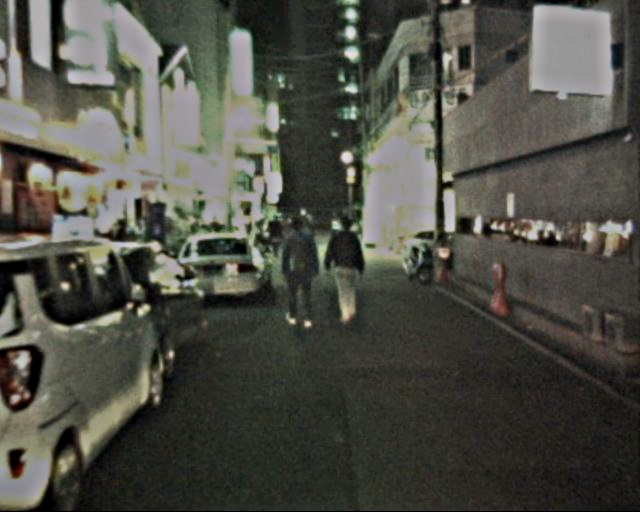person: (325, 218, 369, 324), (277, 219, 320, 325)
